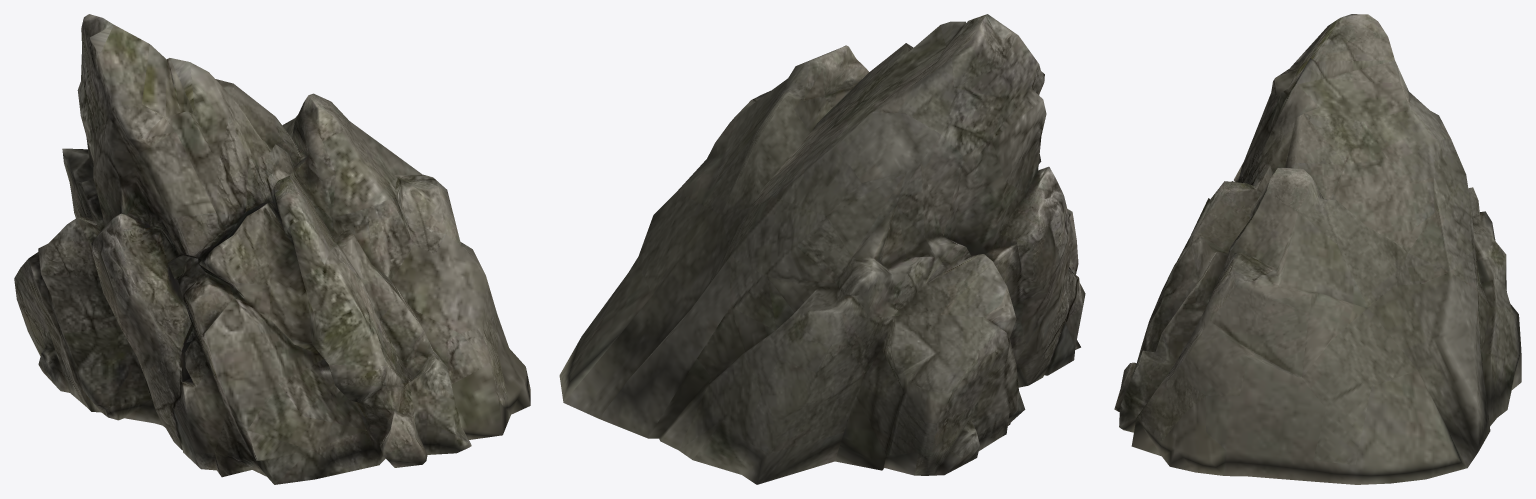
The model's file is boulder_coast.glb.
3 views of the same model, side by side, from view 1: azimuth 30°, elevation 25°; view 2: azimuth 150°, elevation 25°; view 3: azimuth 270°, elevation 25° (orthographic). The views are drawn at different scales.
Size of the model in its own units: 0.9238 by 0.8355 by 0.9536.
Materials: 1 (1 with a texture image).
